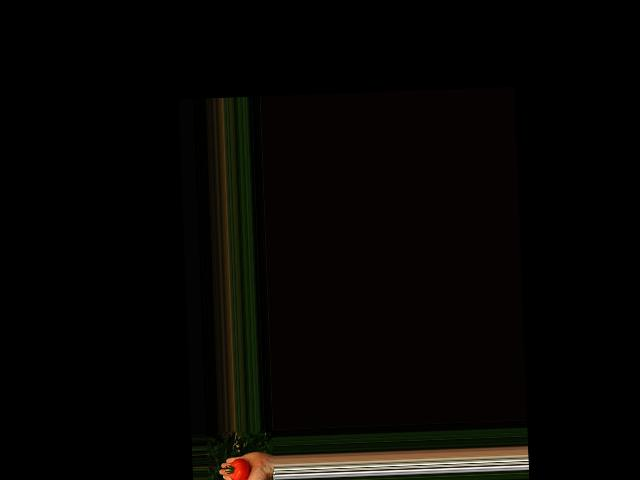tomato: (229, 457, 250, 480)
